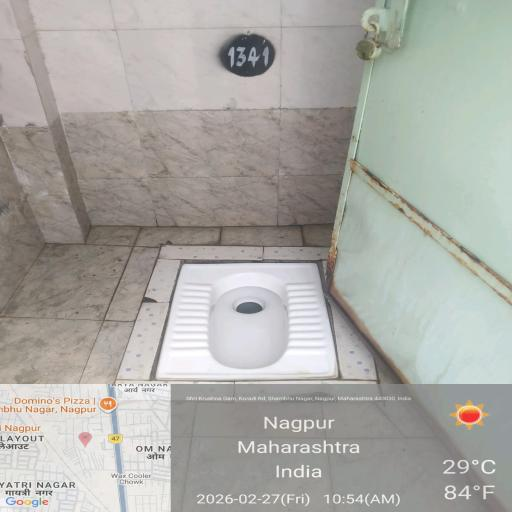clean_floor: (0, 13, 352, 221)
clean_indian: (158, 252, 340, 382)
partial_dirty_floor: (2, 230, 151, 386)
